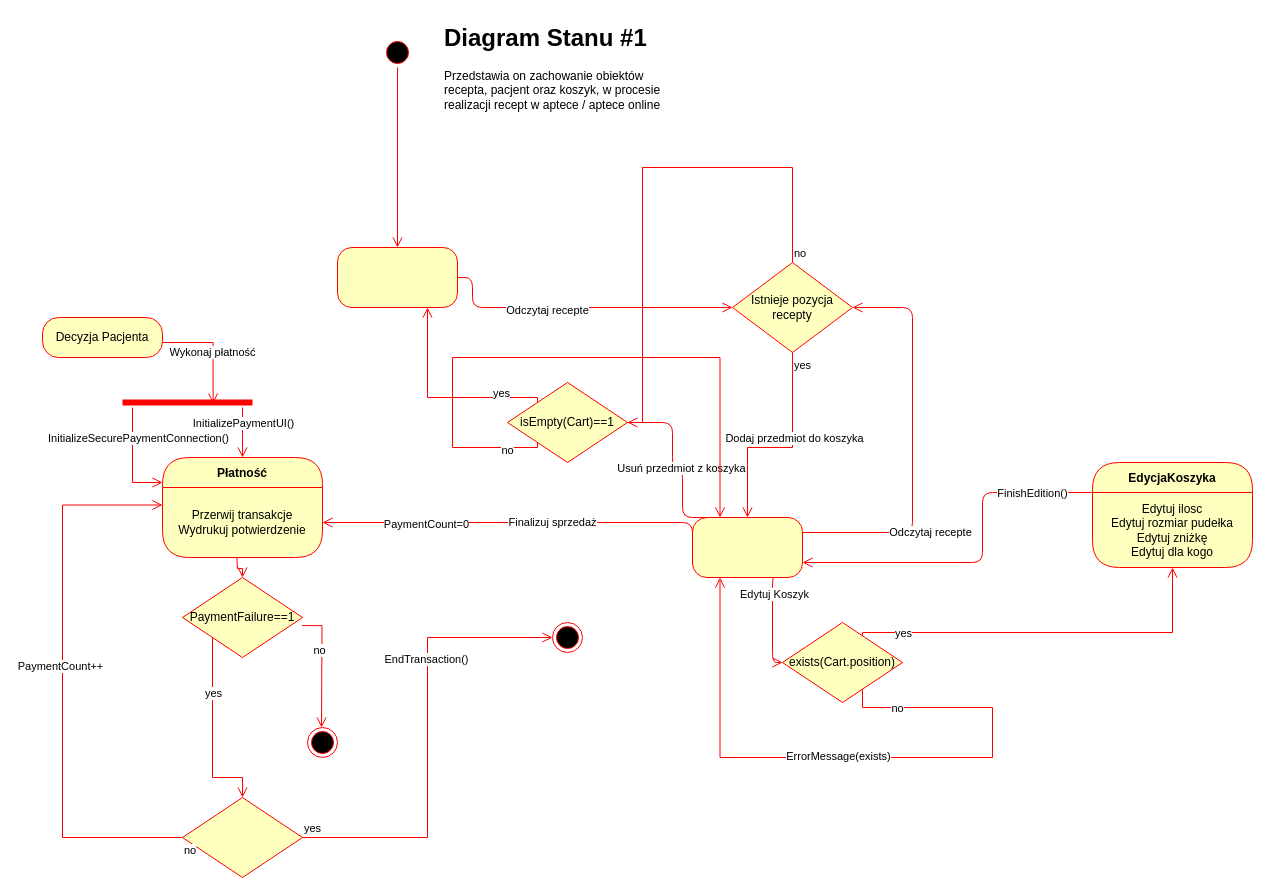
Some shapes in this 1270 by 895 pixel diagram are drawn without their labels. Here are the shapes that lost their labels. From the top down, the centre of each, then its label:
At (397,277): "brak produktu w koszyku".
At (747,547): "Koszyk niepusty".
At (242,837): "PaymentCount>=3".
